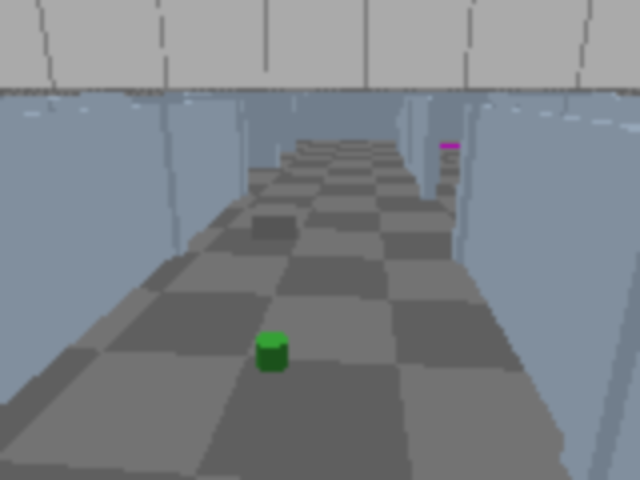obstacle: (252, 205, 298, 240)
puck: (255, 332, 288, 373)
